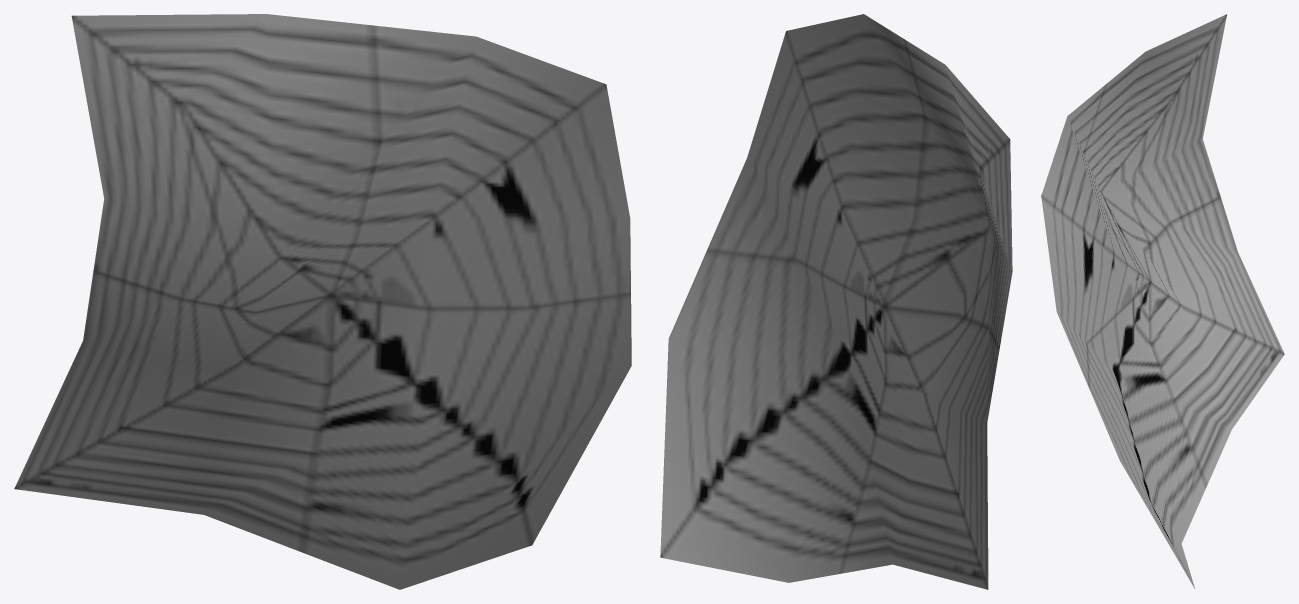
The model's file is a_spiderline01.glb.
3 renders of one model, left to right at view 1: azimuth 30°, elevation 25°; view 2: azimuth 150°, elevation 25°; view 3: azimuth 270°, elevation 25°, orthographic. The views are drawn at different scales.
Visible parts, largest first — view 1: a_spiderline01; view 2: a_spiderline01; view 3: a_spiderline01.
Boxes of the visible parts, bbox=[...] form: a_spiderline01: bbox=[14, 14, 631, 589]; a_spiderline01: bbox=[660, 14, 1012, 589]; a_spiderline01: bbox=[1041, 14, 1284, 588].
Bounding box in the file's own units: 0.9889 × 1.2 × 0.6056.
Materials: 1 (1 with a texture image).
